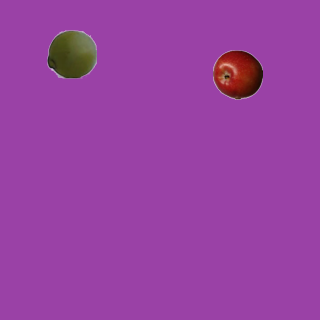Apple Braeburn: (212, 49, 262, 99)
Grape White 4: (46, 28, 96, 78)
